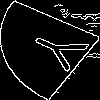Y: (24, 25, 100, 78)
